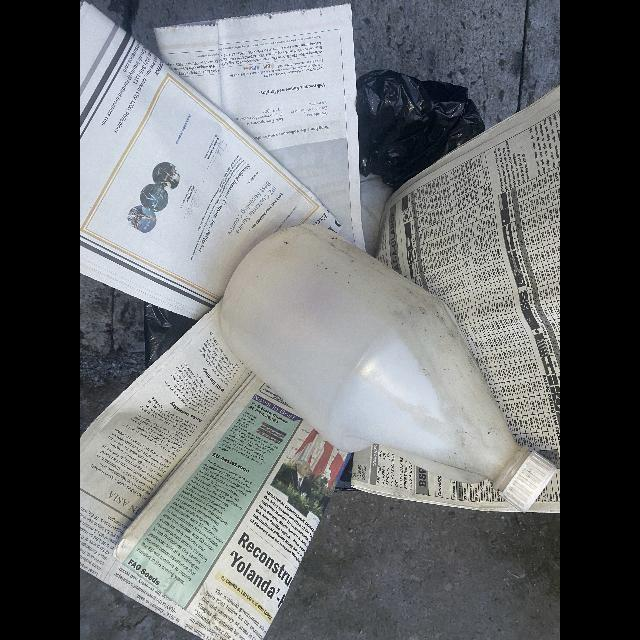paper: (80, 307, 350, 640), (80, 0, 346, 321), (377, 85, 560, 517), (153, 3, 369, 255), (350, 445, 522, 515)
plastic_container: (220, 225, 556, 511)
